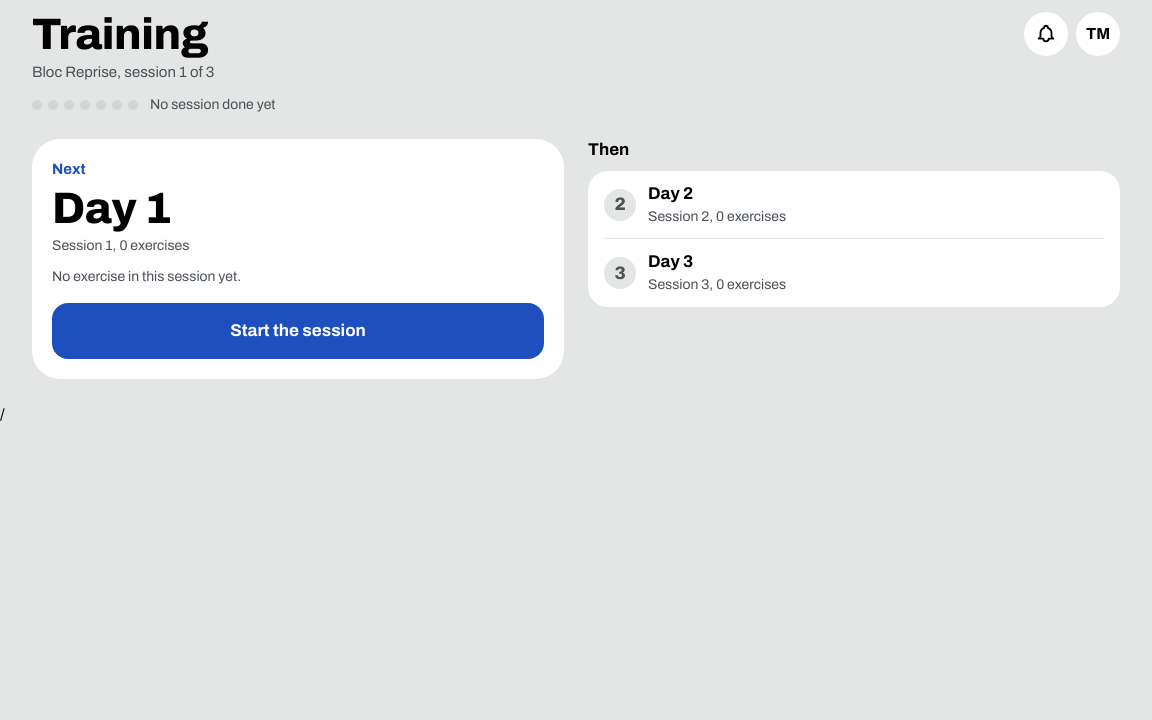
it: StudentTraining › the sessions after the next one › leads from each row to its session
This screenshot has width=1152, height=720.
Click the link "3 Day 3 Session 3, 0 exercises".
click(695, 272)  # box [604,252,786,292]
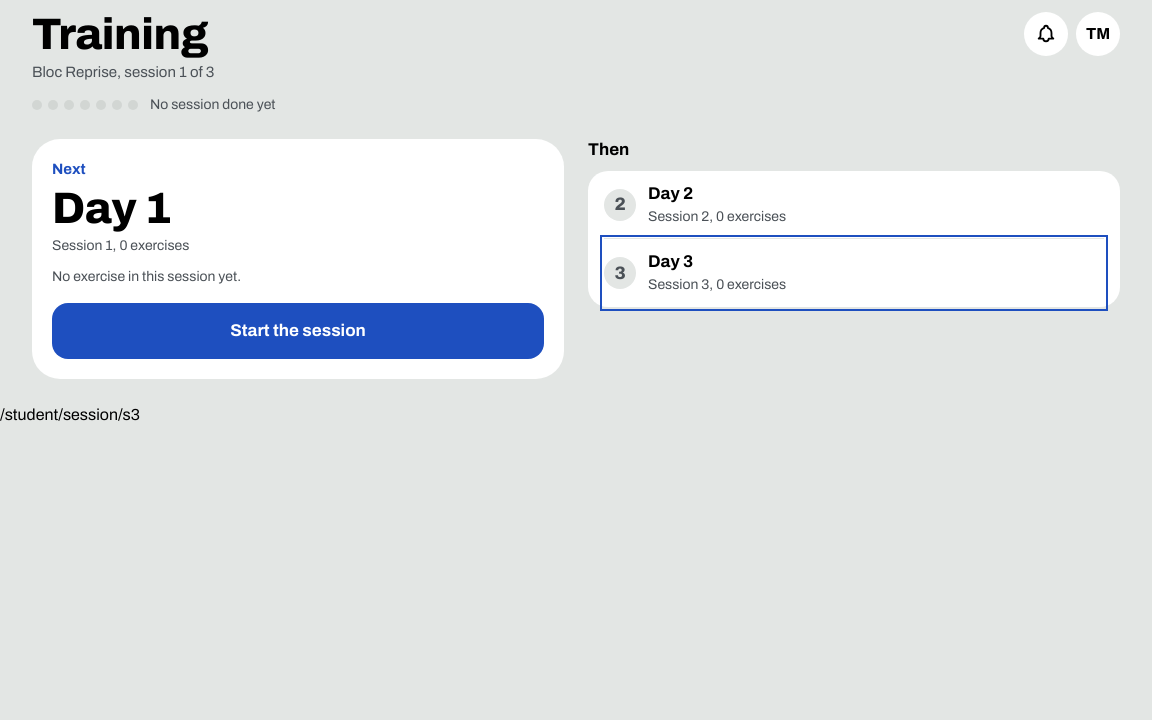
Now the text with test id "location" reads "/student/session/s3", box [0,406,140,423]
